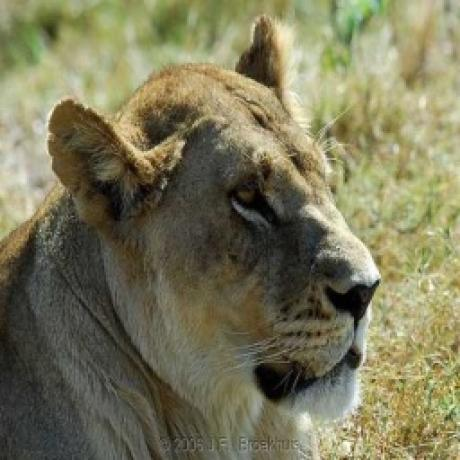Lion: (0, 11, 388, 460)
